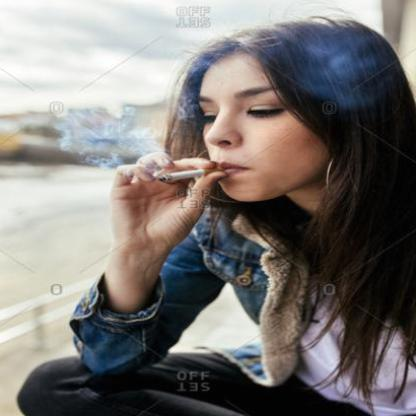cigarette: (156, 167, 223, 183)
person: (162, 14, 415, 415)
smoke: (54, 107, 155, 168)
